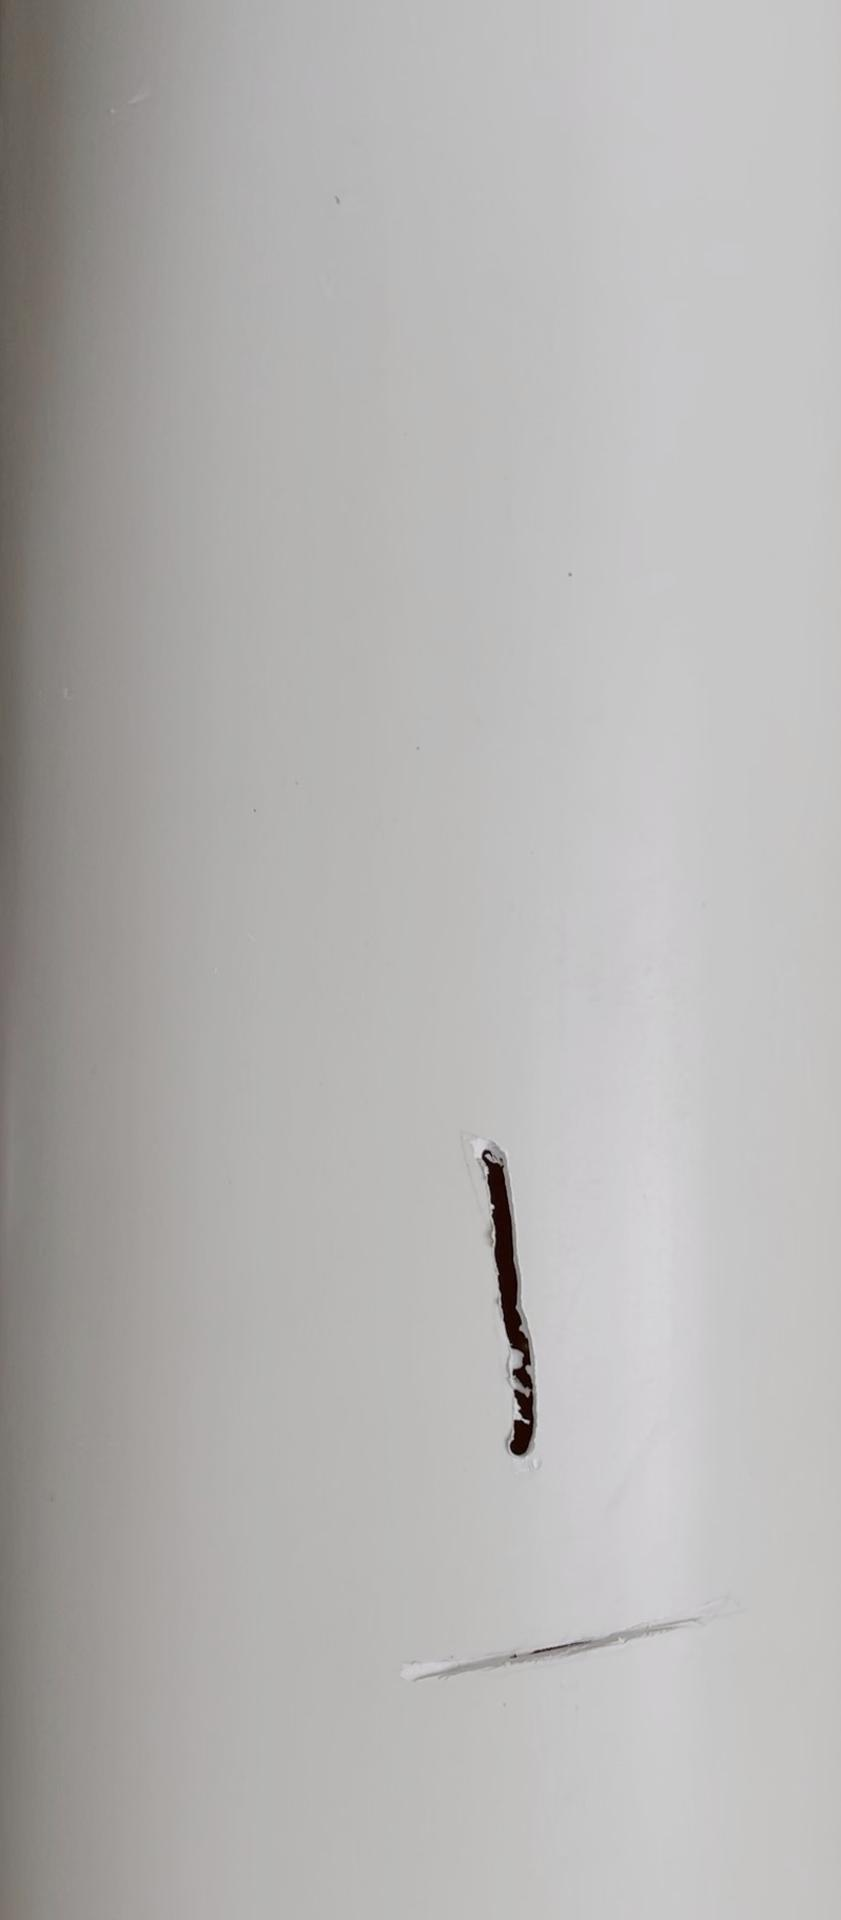fengxi: (443, 1129, 570, 1464)
sunshang: (397, 1604, 708, 1695)
